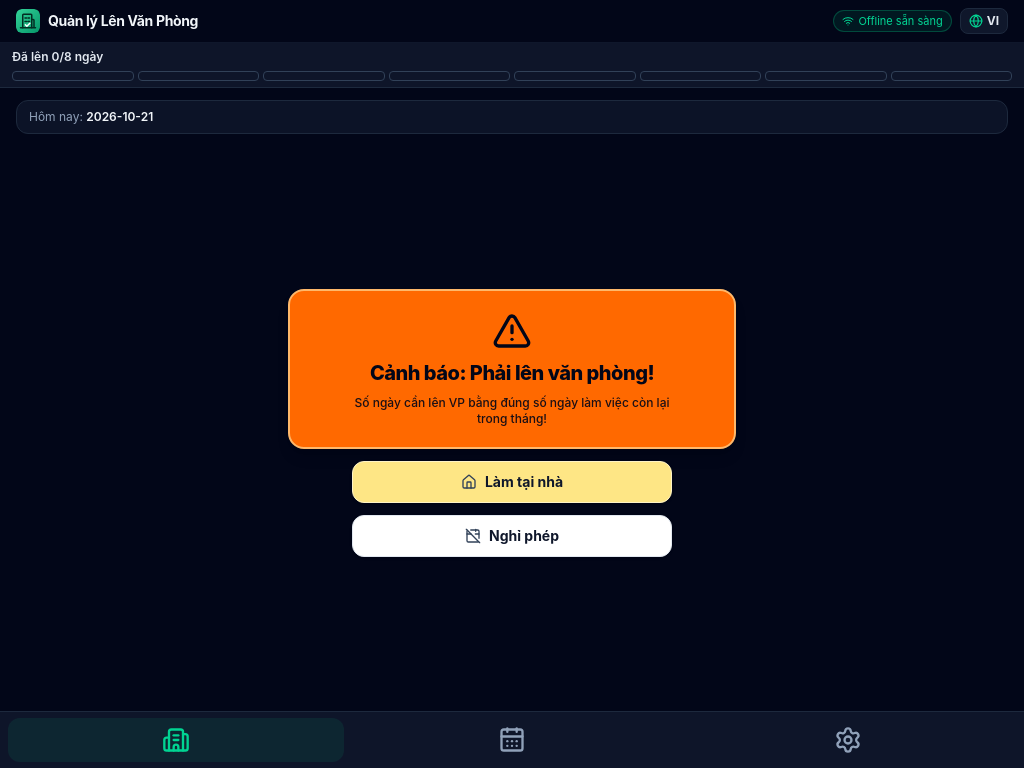
Scenario: VP reminder toggle in Settings › shows the blocked message when permission is denied
The image size is (1024, 768).
Step 1. Click the button with test id "tab-btn-settings" → point(848, 740), box [680,718,1016,762]
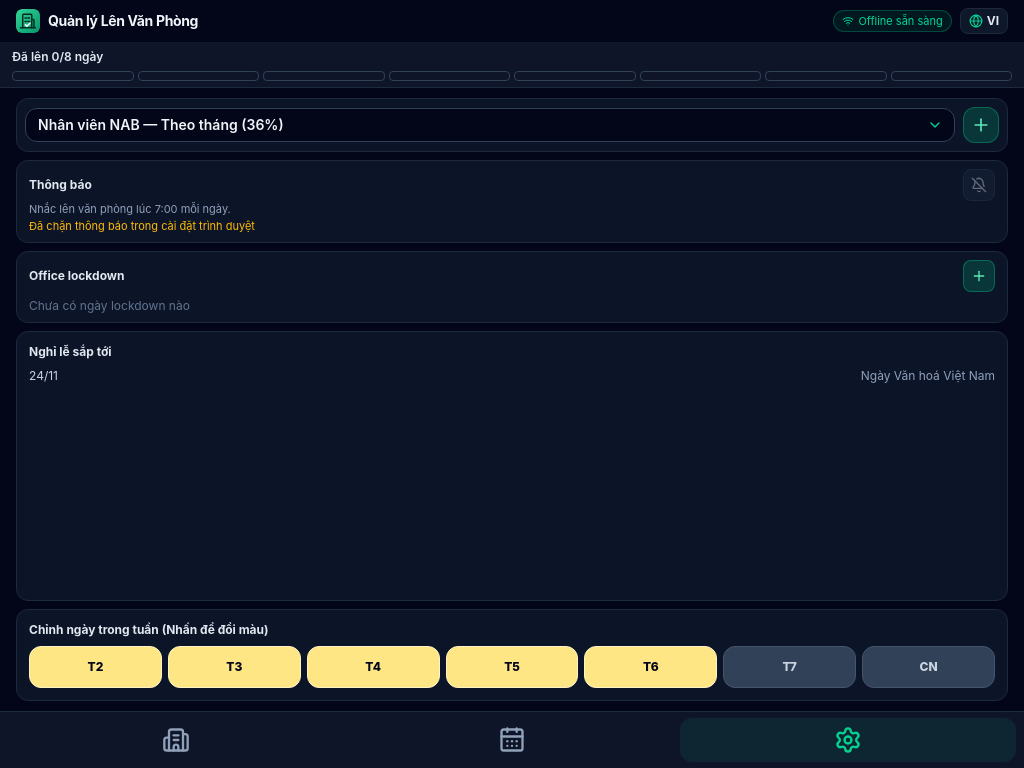
Now the text "Đã chặn thông báo trong cài đặt trình duyệt" is shown, box [29,218,255,232]
Now the button with test id "btn-toggle-vp-reminder" is disabled, box [963,169,995,201]
